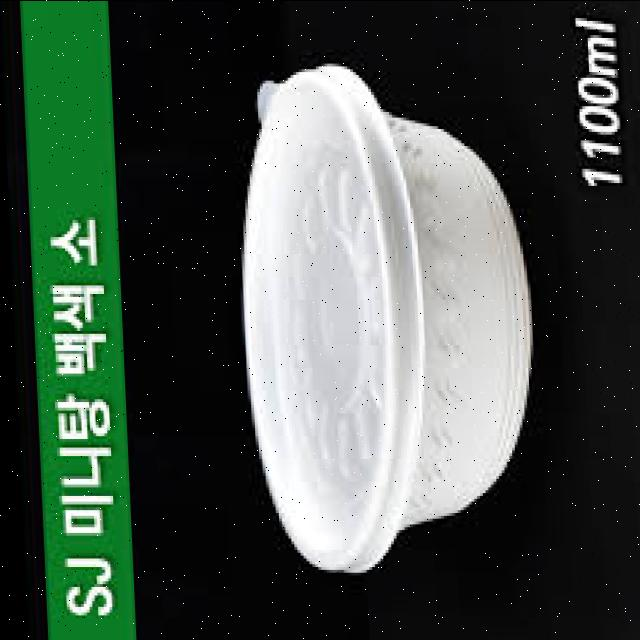disposable: (202, 55, 559, 587)
